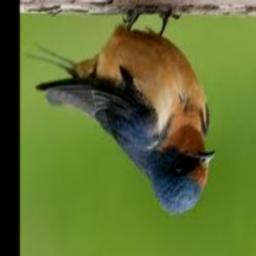Swallow: (26, 12, 216, 215)
